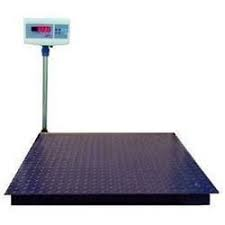Industrial Scale: (2, 17, 218, 205)
